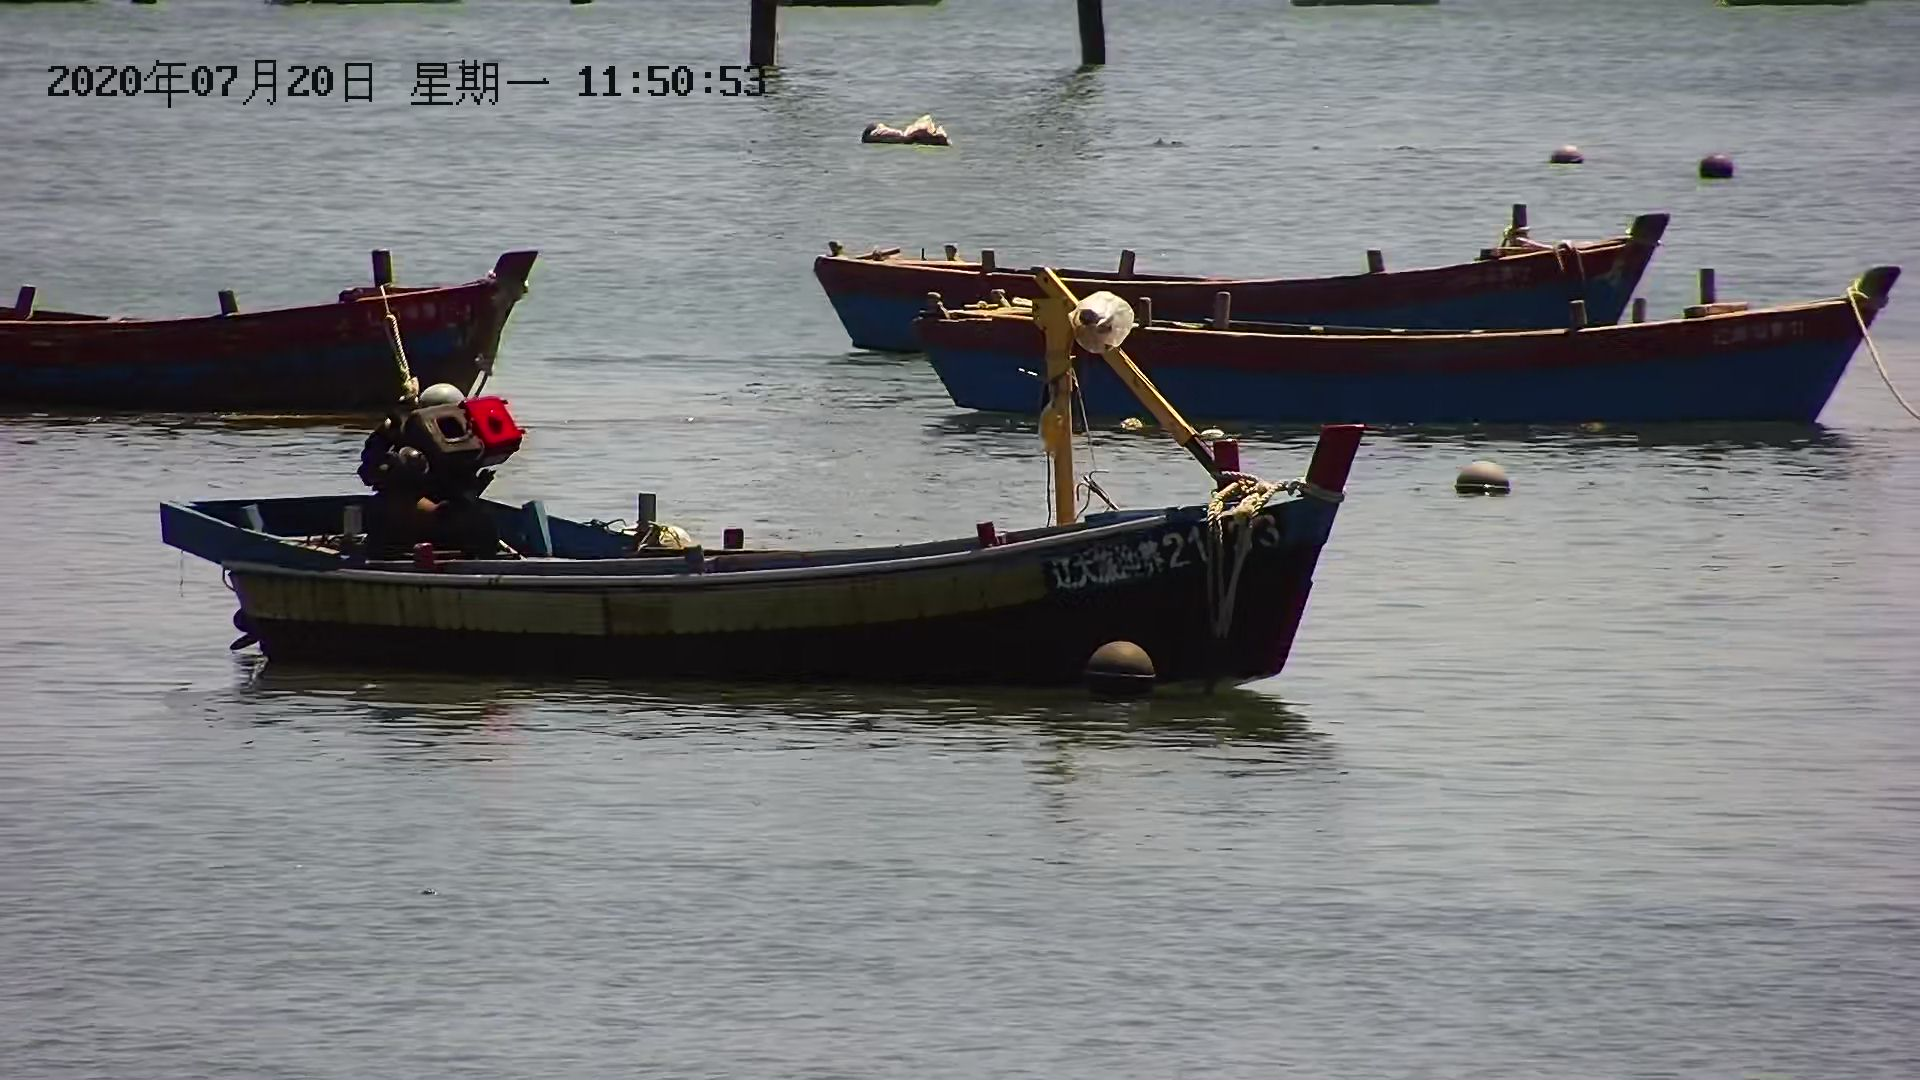ball: (1080, 629, 1174, 688), (1445, 454, 1518, 502), (1547, 135, 1592, 175), (1693, 145, 1738, 182)
boat: (145, 422, 1362, 712), (911, 273, 1863, 433), (806, 216, 1654, 357), (1, 262, 516, 423)
rubbish: (843, 102, 967, 152)
